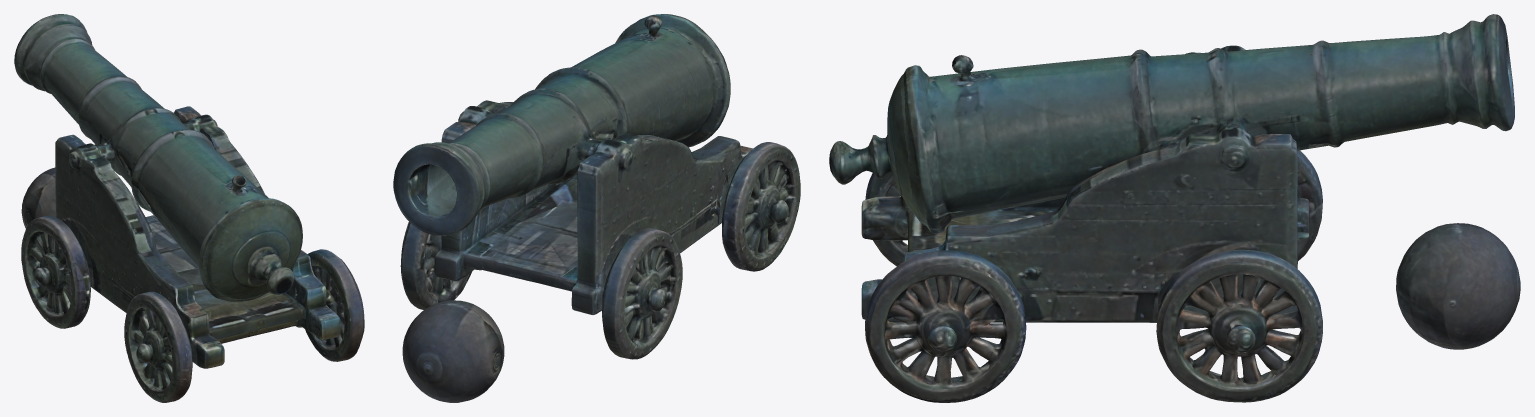
Rendered from bombard__old-cannon.glb.
The picture shows the model from 3 angles, left to right: view 1: azimuth 30°, elevation 25°; view 2: azimuth 150°, elevation 25°; view 3: azimuth 270°, elevation 25°; orthographic projection. The views are drawn at different scales.
Parts seen in each view (by area): view 1: file1; view 2: file1; view 3: file1.
Part boxes in pixels (x1,y1,x2,y2): file1: (14,14,364,402); file1: (393,14,800,402); file1: (829,14,1520,402).
Size of the model in its own units: 1.03 by 1.03 by 2.
1 material, 1 textured.
